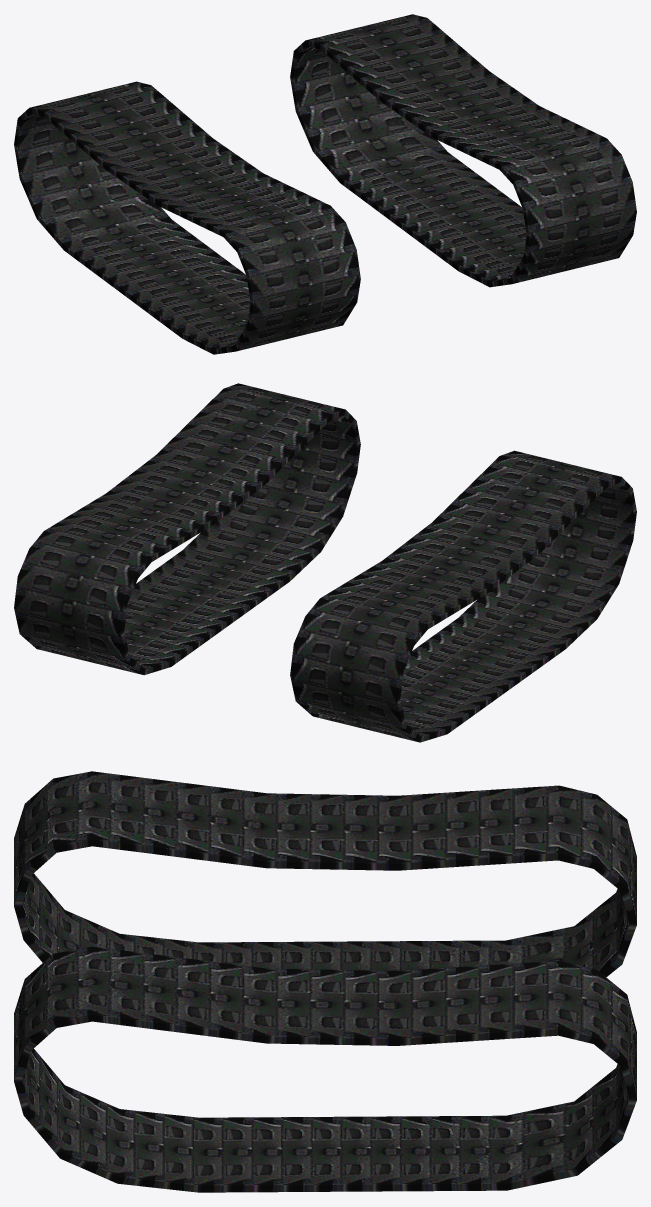
Rendered from treads.FBX.
3 renders of one model, top to bottom at view 1: azimuth 30°, elevation 25°; view 2: azimuth 150°, elevation 25°; view 3: azimuth 270°, elevation 25°, orthographic. The views are drawn at different scales.
Visible parts, largest first — view 1: Track; view 2: Track; view 3: Track.
Boxes of the visible parts, bbox=[...] form: Track: bbox=[14, 14, 636, 354]; Track: bbox=[14, 383, 636, 742]; Track: bbox=[14, 771, 636, 1192].
Bounding box in the file's own units: 344 × 117 × 372.
Materials: 1 (1 with a texture image).
